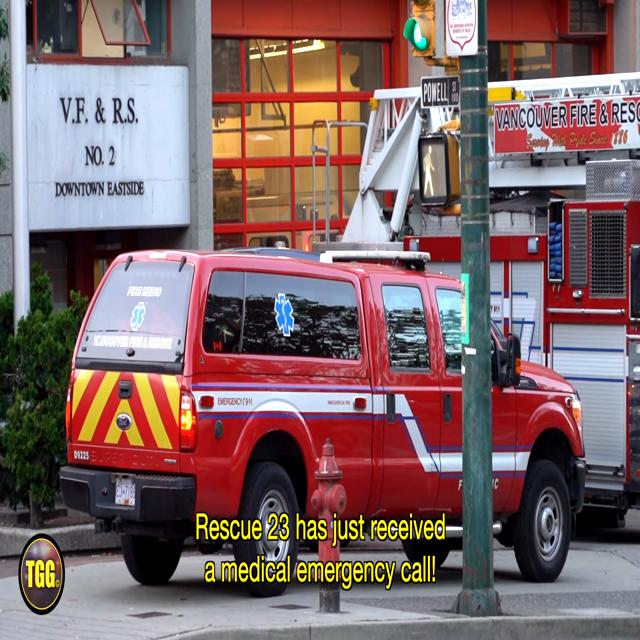emergency-vehicles: (45, 222, 598, 594), (362, 76, 640, 541)
